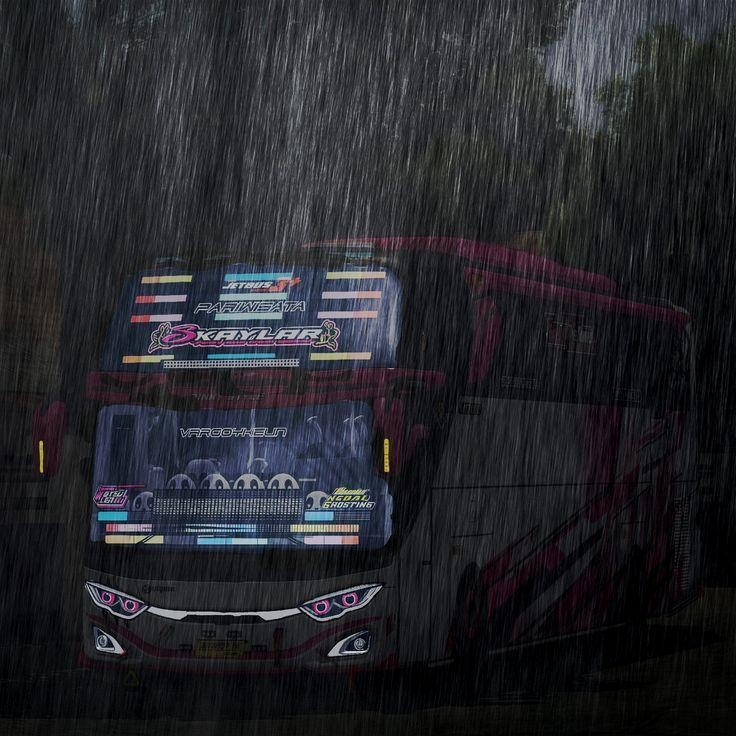bus: (90, 235, 695, 680)
